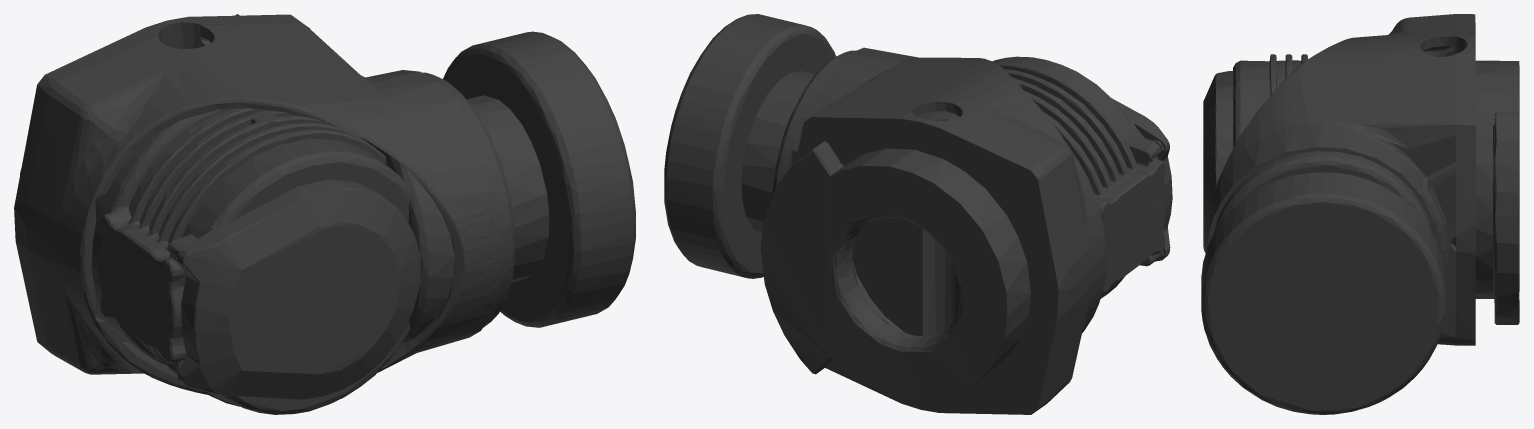
File: rear_left_hip.dae
3 views of the same model, side by side, from view 1: azimuth 30°, elevation 25°; view 2: azimuth 150°, elevation 25°; view 3: azimuth 270°, elevation 25° (orthographic). The views are drawn at different scales.
Visible parts, largest first — view 1: rear_left_hip; view 2: rear_left_hip; view 3: rear_left_hip.
Boxes of the visible parts, x1,y1,x2,y2 form: rear_left_hip: (14,14,635,414); rear_left_hip: (664,14,1172,414); rear_left_hip: (1201,14,1519,414).
Size of the model in its own units: 0.1417 by 0.1001 by 0.0941.
